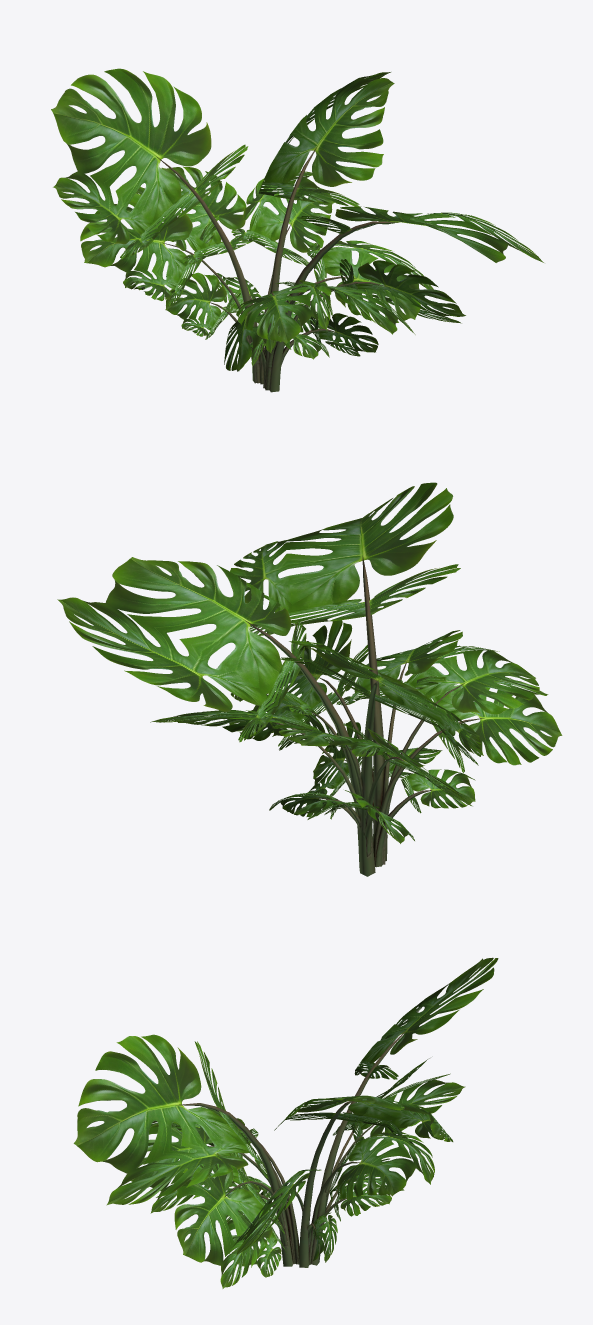
Rendered from monstera-d.glb.
3 renders of one model, top to bottom at view 1: azimuth 30°, elevation 25°; view 2: azimuth 150°, elevation 25°; view 3: azimuth 270°, elevation 25°, orthographic. The views are drawn at different scales.
Parts seen in each view (by area): view 1: monstera-d; view 2: monstera-d; view 3: monstera-d.
Part boxes in pixels (x1,y1,x2,y2): monstera-d: (51, 68, 543, 392); monstera-d: (57, 482, 562, 876); monstera-d: (73, 957, 498, 1288).
Size of the model in its own units: 3.27 by 2.37 by 4.01.
Materials: 2 (2 with a texture image).
